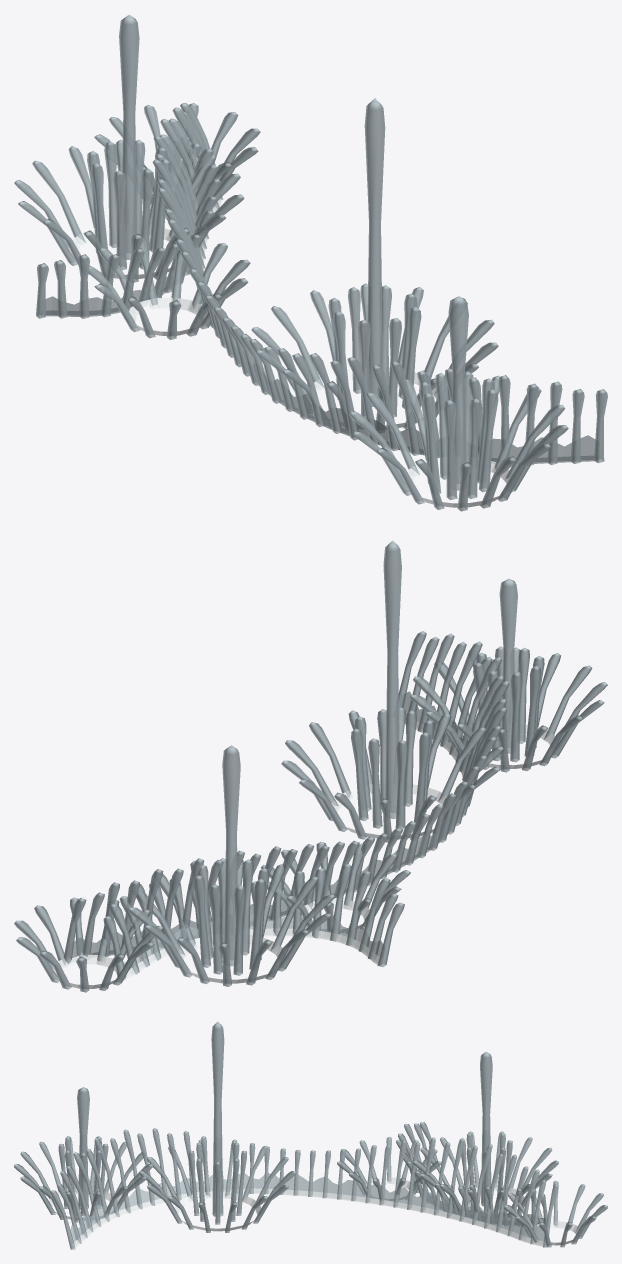
Rendered from dubai-fountain.glb.
3 views of the same model, one above another, from view 1: azimuth 30°, elevation 25°; view 2: azimuth 150°, elevation 25°; view 3: azimuth 270°, elevation 25° (orthographic). The views are drawn at different scales.
Visible parts, largest first — view 1: The Dubai Fountain; view 2: The Dubai Fountain; view 3: The Dubai Fountain.
Boxes of the visible parts, x1,y1,x2,y2 form: The Dubai Fountain: [14, 14, 607, 511]; The Dubai Fountain: [14, 540, 607, 992]; The Dubai Fountain: [14, 1021, 607, 1249].
Bounding box in the file's own units: 131 × 122 × 339.
